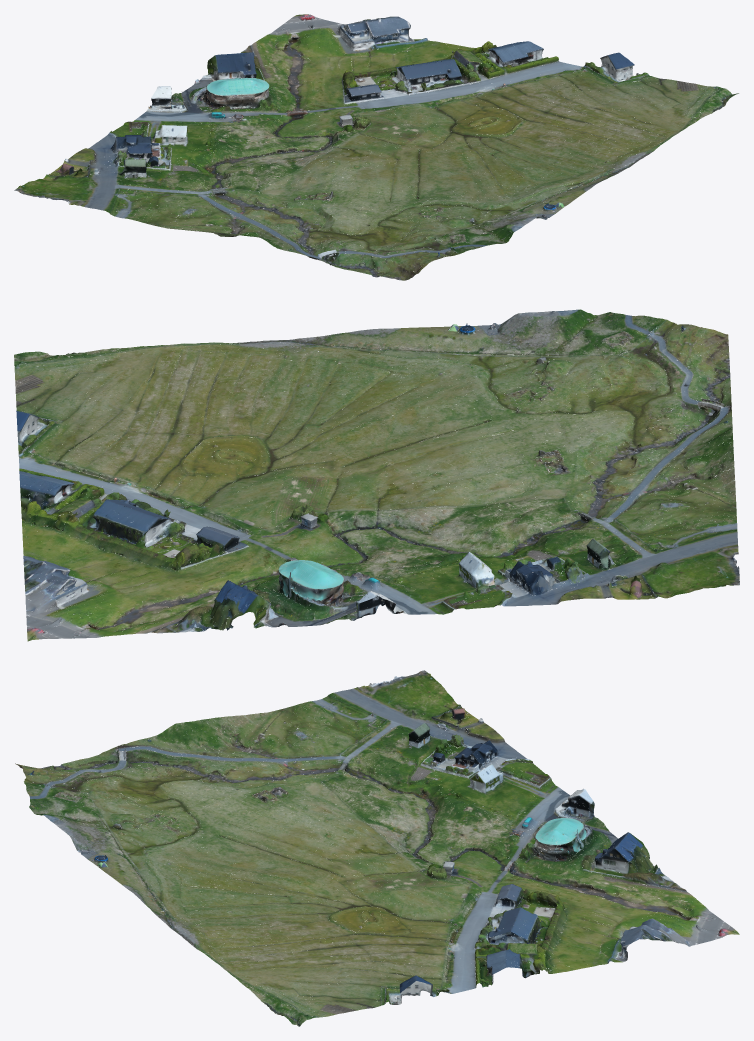
Rendered from leirvik.glb.
3 views of the same model, one above another, from view 1: azimuth 30°, elevation 25°; view 2: azimuth 150°, elevation 25°; view 3: azimuth 270°, elevation 25° (orthographic). The views are drawn at different scales.
Visible parts, largest first — view 1: Mesh_0; view 2: Mesh_0; view 3: Mesh_0.
Boxes of the visible parts, x1,y1,x2,y2 form: Mesh_0: [14, 14, 738, 280]; Mesh_0: [14, 309, 739, 641]; Mesh_0: [15, 670, 739, 1026].
Size of the model in its own units: 242 by 21.33 by 221.
Materials: 2 (2 with a texture image).
